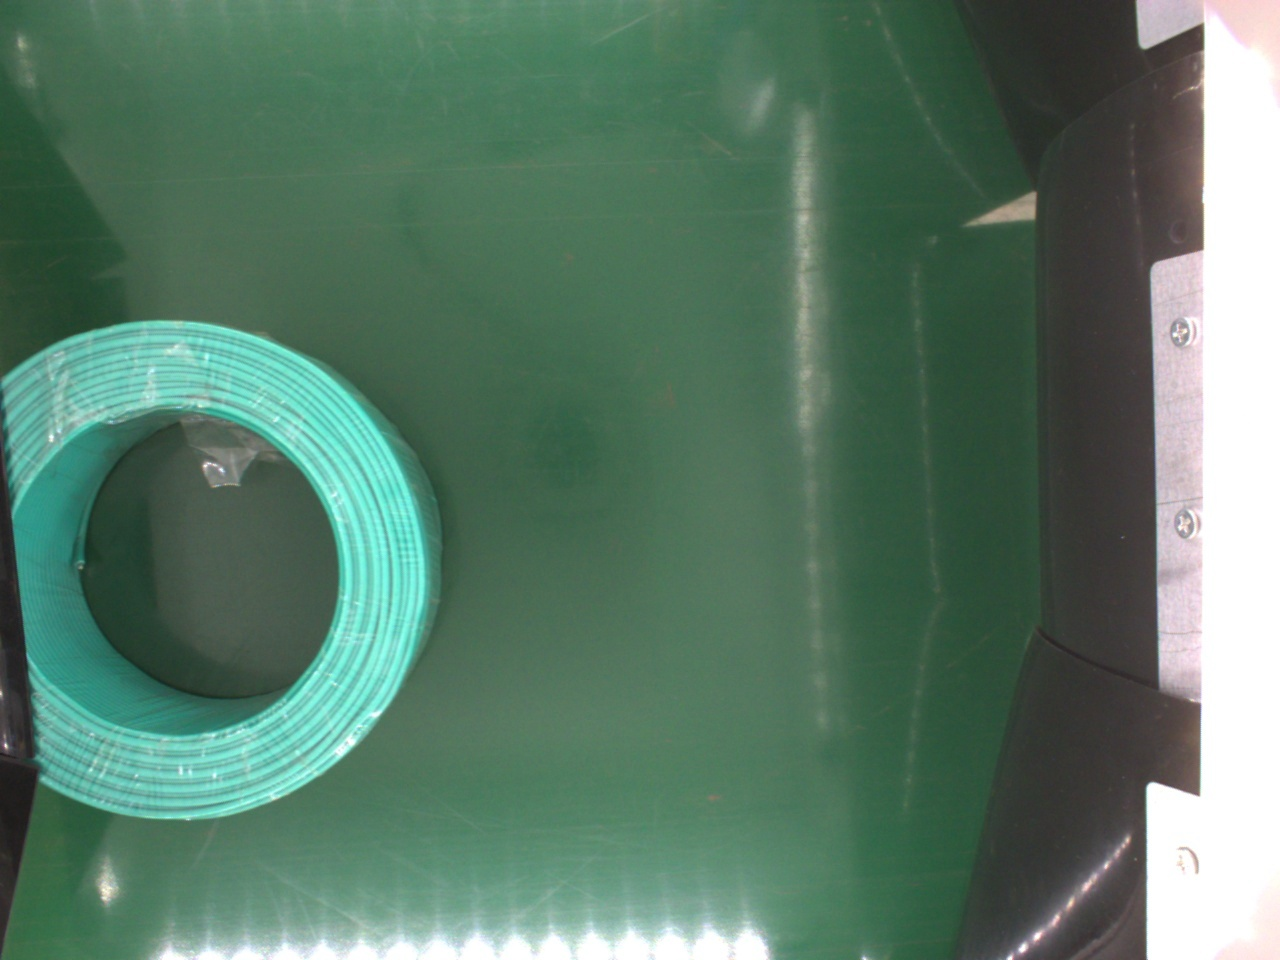green: (2, 318, 440, 827)
